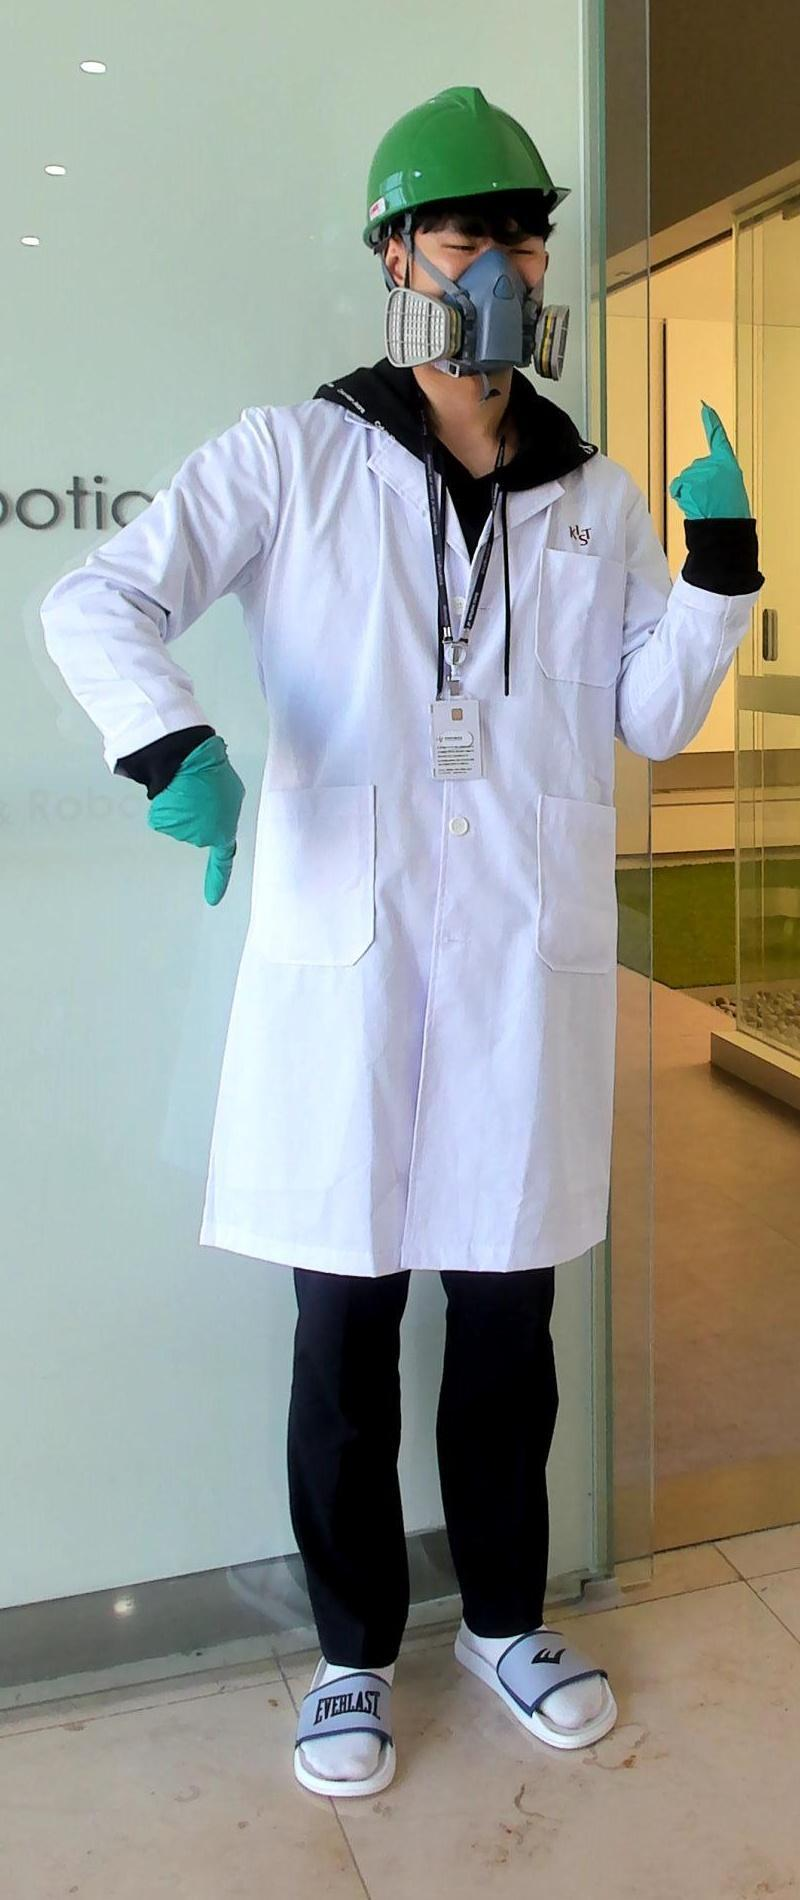lab_coat: (233, 457, 655, 1265)
